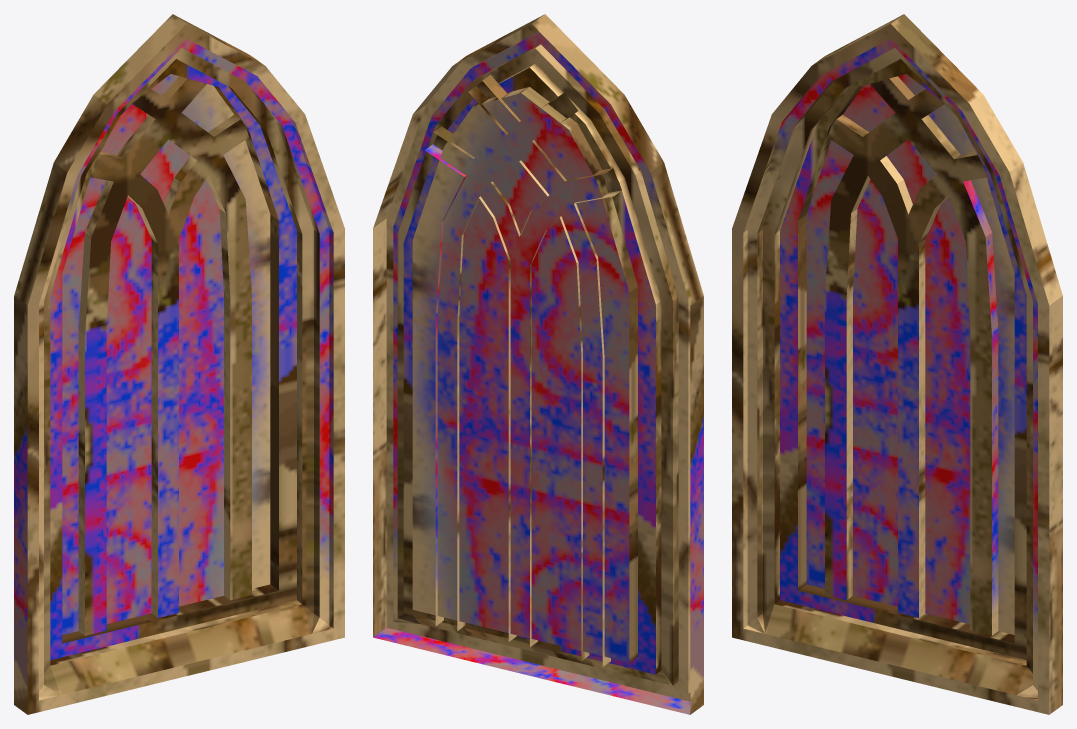
File: SM_Ventana3.fbx
3 renders of one model, left to right at view 1: azimuth 30°, elevation 25°; view 2: azimuth 150°, elevation 25°; view 3: azimuth 330°, elevation 25°, orthographic.
Visible parts, largest first — view 1: SM_Ventana3; view 2: SM_Ventana3; view 3: SM_Ventana3.
Part boxes in pixels (bbox=[...]): SM_Ventana3: bbox=[14, 14, 344, 714]; SM_Ventana3: bbox=[373, 14, 703, 714]; SM_Ventana3: bbox=[732, 14, 1062, 714].
Bounding box in the file's own units: 102 × 200 × 14.49.
